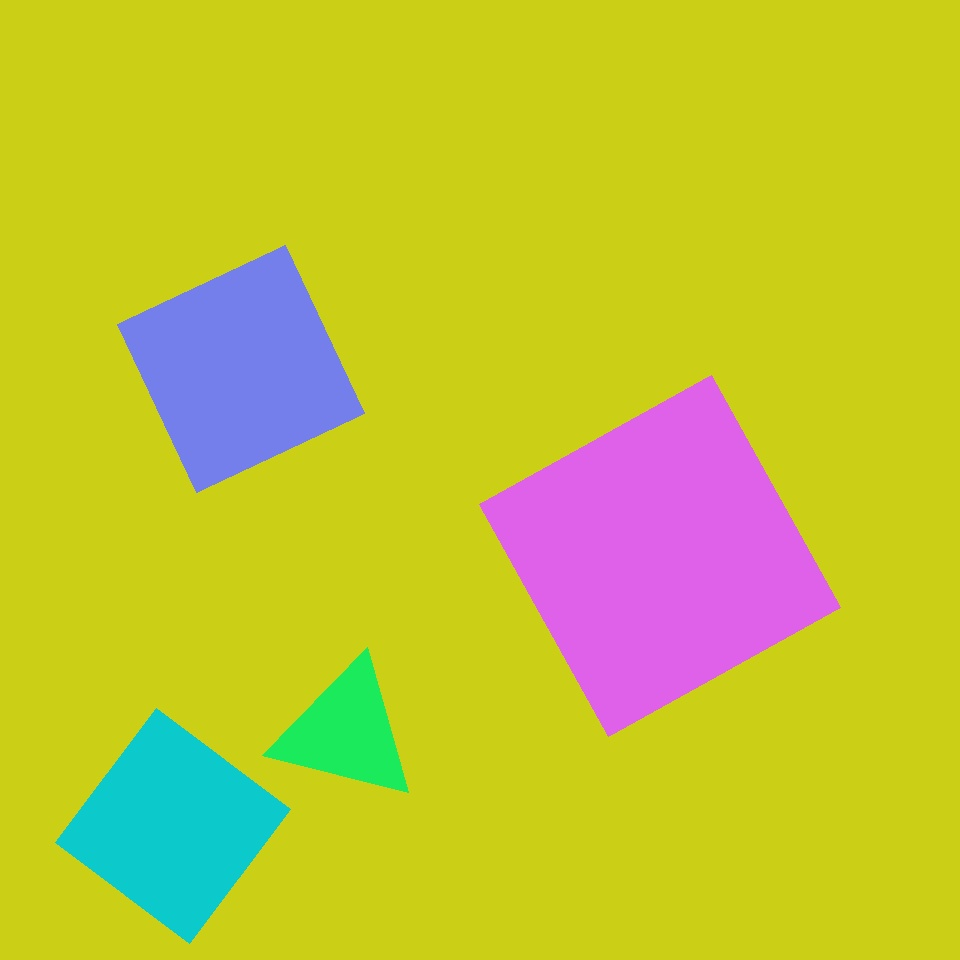circle: (671, 533, 926, 765), (273, 659, 419, 804)
square: (480, 376, 840, 736), (118, 246, 364, 493), (56, 708, 290, 944), (272, 757, 400, 886)
